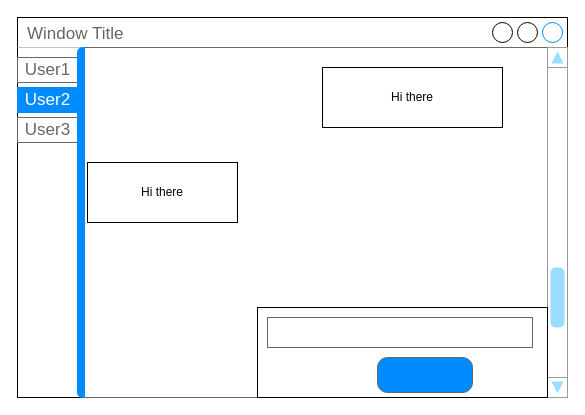
Some shapes in this 585 by 415 pixel diagram are drawn without their labels. Here are the shapes that lost their labels. From the top down, the centre of each, then its label:
[399,332]: Line 1
[424,374]: Send
